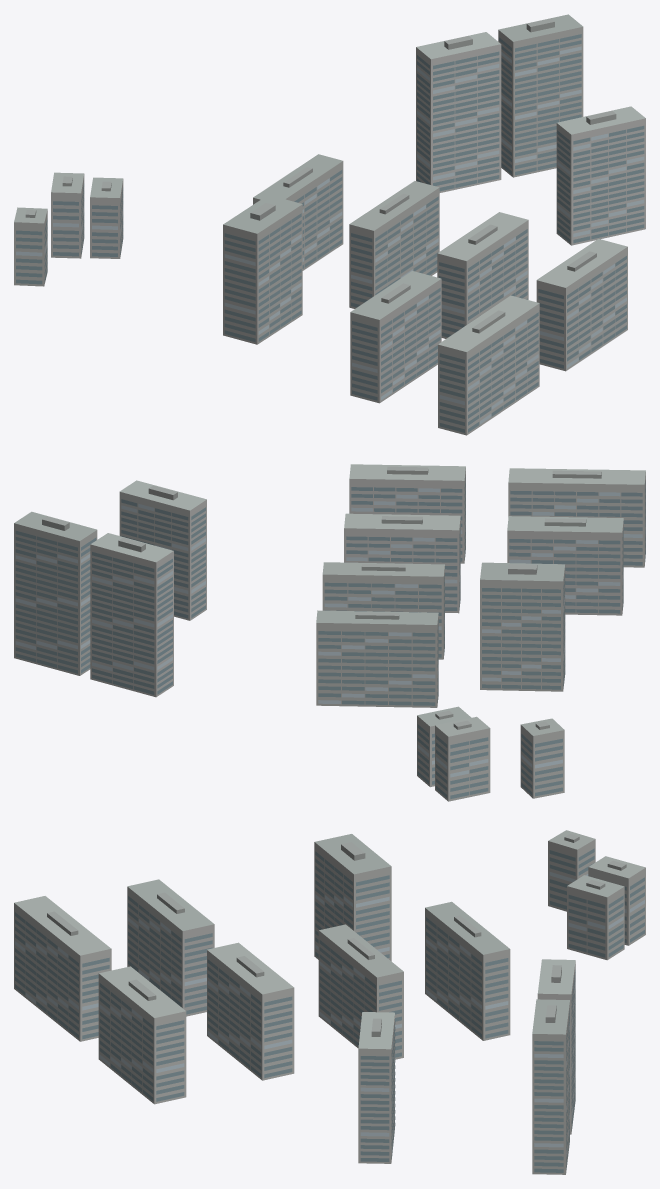
File: apt-a13782804.glb
3 views of the same model, one above another, from view 1: azimuth 30°, elevation 25°; view 2: azimuth 150°, elevation 25°; view 3: azimuth 270°, elevation 25° (orthographic). The views are drawn at different scales.
Parts seen in each view (by area): view 1: apt-a13782804; view 2: apt-a13782804; view 3: apt-a13782804.
Part boxes in pixels (x1=…): apt-a13782804: x1=14, y1=14, x2=645, y2=435; apt-a13782804: x1=14, y1=464, x2=645, y2=801; apt-a13782804: x1=14, y1=830, x2=645, y2=1174.
Size of the model in its own units: 255 by 62 by 243.
